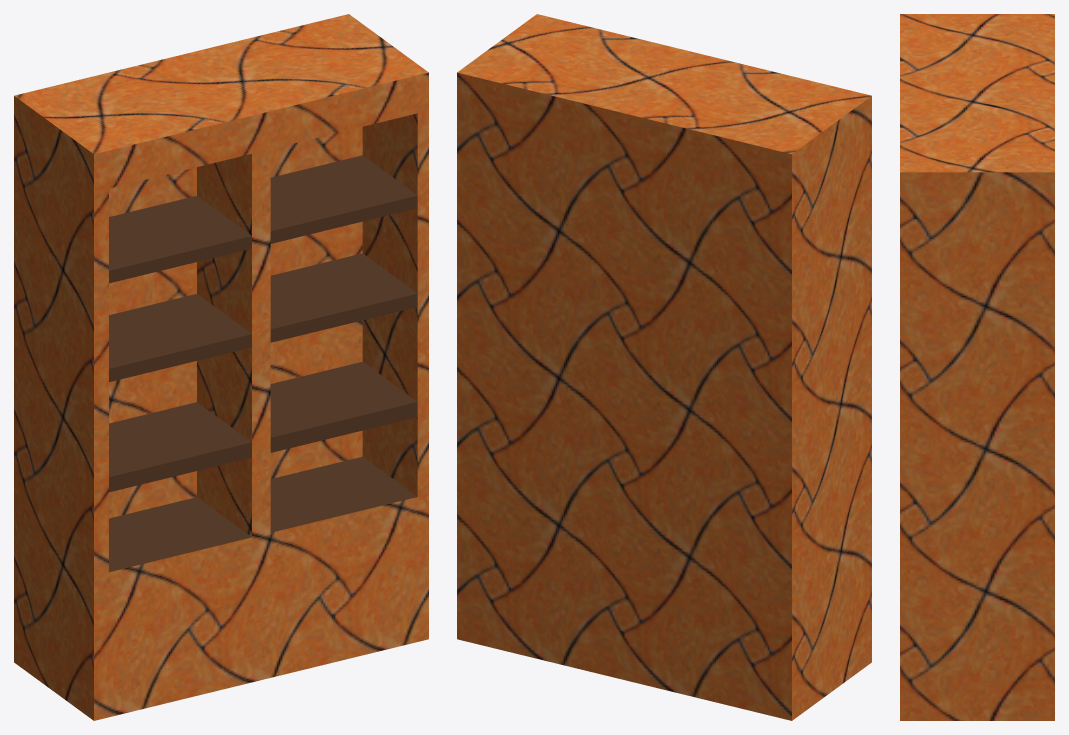
File: bookshelf.fbx
3 renders of one model, left to right at view 1: azimuth 30°, elevation 25°; view 2: azimuth 150°, elevation 25°; view 3: azimuth 270°, elevation 25°, orthographic. The views are drawn at different scales.
Parts seen in each view (by area): view 1: Cube.001; view 2: Cube.001; view 3: Cube.001.
Part boxes in pixels (bbox=[...]): Cube.001: bbox=[14, 14, 428, 720]; Cube.001: bbox=[457, 14, 871, 720]; Cube.001: bbox=[900, 14, 1054, 720].
Bounding box in the file's own units: 483 × 781 × 200.
